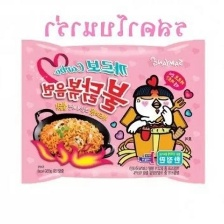snack: (11, 32, 216, 190)
